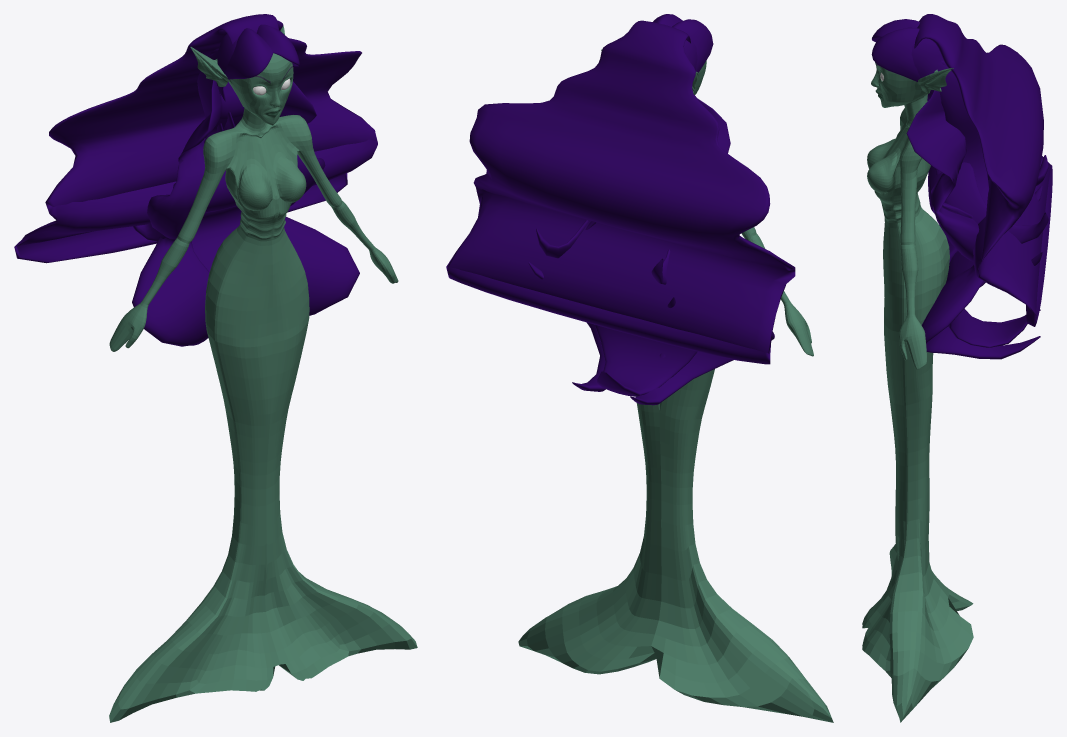
The model's file is final mermaid.fbx.
3 renders of one model, left to right at view 1: azimuth 30°, elevation 25°; view 2: azimuth 150°, elevation 25°; view 3: azimuth 270°, elevation 25°, orthographic. The views are drawn at different scales.
Visible parts, largest first — view 1: body, ht-lg-01mesh.004, ht-lg-01mesh.002, ht-lg-01mesh.001, ht-lg-01mesh.003, ht-lg-01mesh.005; view 2: ht-lg-01mesh.004, body, ht-lg-01mesh.001, ht-lg-01mesh.002, ht-lg-01mesh.003; view 3: body, ht-lg-01mesh.004, ht-lg-01mesh.002, ht-lg-01mesh.003, ht-lg-01mesh.005, ht-lg-01mesh.001.
Boxes of the visible parts, x1,y1,x2,y2 form: body: [109, 26, 417, 722]; ht-lg-01mesh.004: [14, 14, 377, 263]; ht-lg-01mesh.002: [132, 80, 359, 346]; ht-lg-01mesh.001: [191, 82, 244, 271]; ht-lg-01mesh.003: [173, 24, 299, 187]; ht-lg-01mesh.005: [133, 34, 238, 241]; ht-lg-01mesh.004: [446, 20, 795, 364]; body: [518, 49, 833, 722]; ht-lg-01mesh.001: [595, 325, 697, 396]; ht-lg-01mesh.002: [572, 95, 774, 405]; ht-lg-01mesh.003: [536, 14, 713, 284]; body: [862, 62, 973, 722]; ht-lg-01mesh.004: [914, 14, 1052, 326]; ht-lg-01mesh.002: [906, 90, 1040, 359]; ht-lg-01mesh.003: [871, 19, 1048, 243]; ht-lg-01mesh.005: [911, 38, 1042, 265]; ht-lg-01mesh.001: [928, 165, 1027, 347].
Size of the model in its own units: 101 by 195 by 53.58.
